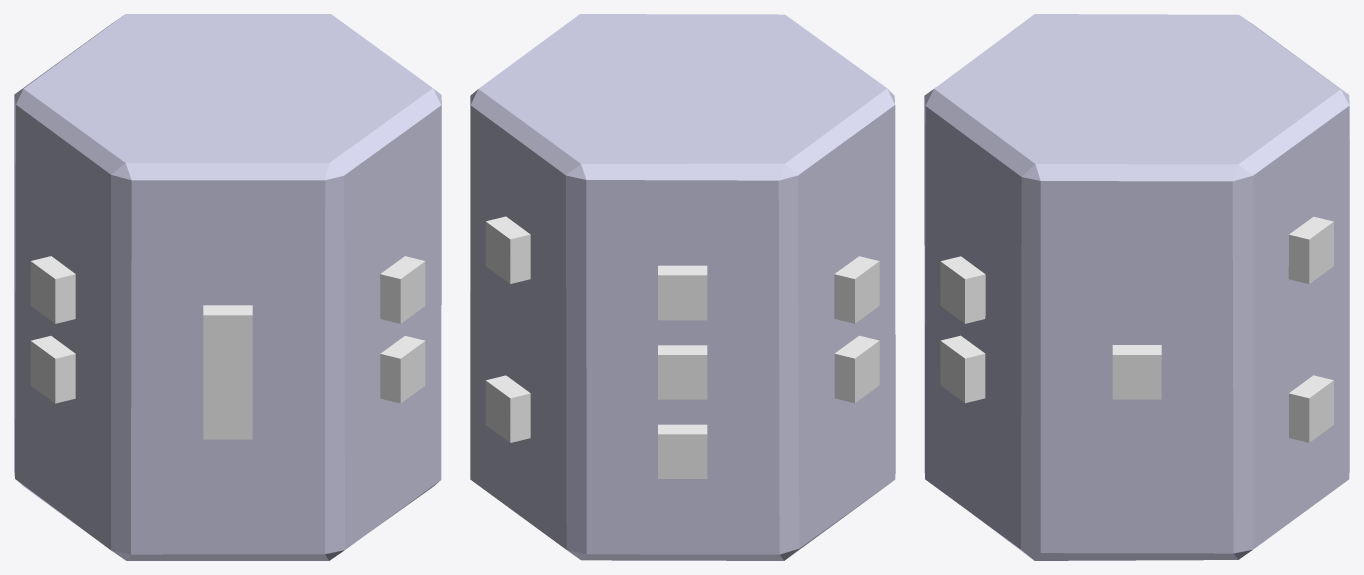
Rendered from prism_dice.gltf.
3 views of the same model, side by side, from view 1: azimuth 30°, elevation 25°; view 2: azimuth 150°, elevation 25°; view 3: azimuth 270°, elevation 25° (orthographic).
Visible parts, largest first — view 1: Prism_Dice; view 2: Prism_Dice; view 3: Prism_Dice.
Boxes of the visible parts, bbox=[...] form: Prism_Dice: bbox=[14, 14, 441, 560]; Prism_Dice: bbox=[470, 14, 895, 560]; Prism_Dice: bbox=[924, 14, 1349, 560].
Size of the model in its own units: 1.94 by 2 by 1.94.
